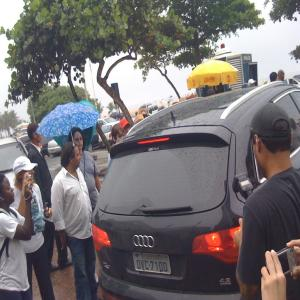Vehicle-registration-plate: (135, 259, 175, 285)
